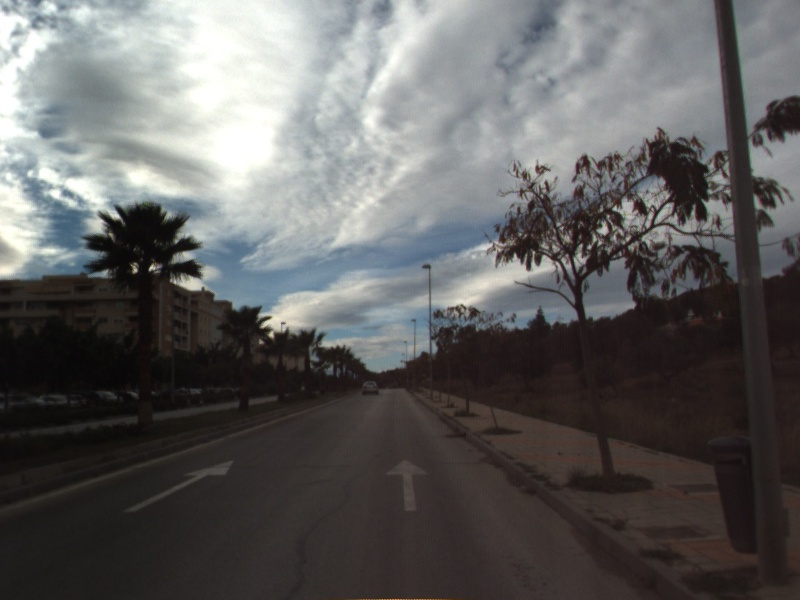STRAIGHT: (121, 458, 236, 514), (384, 457, 431, 513)
